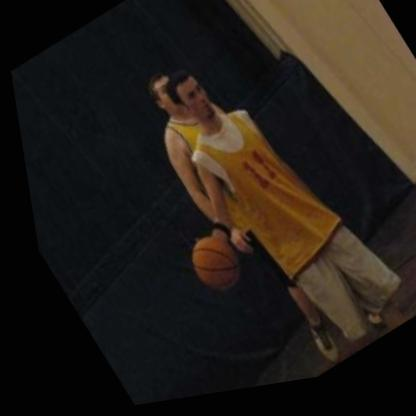basketball: (164, 226, 245, 306)
